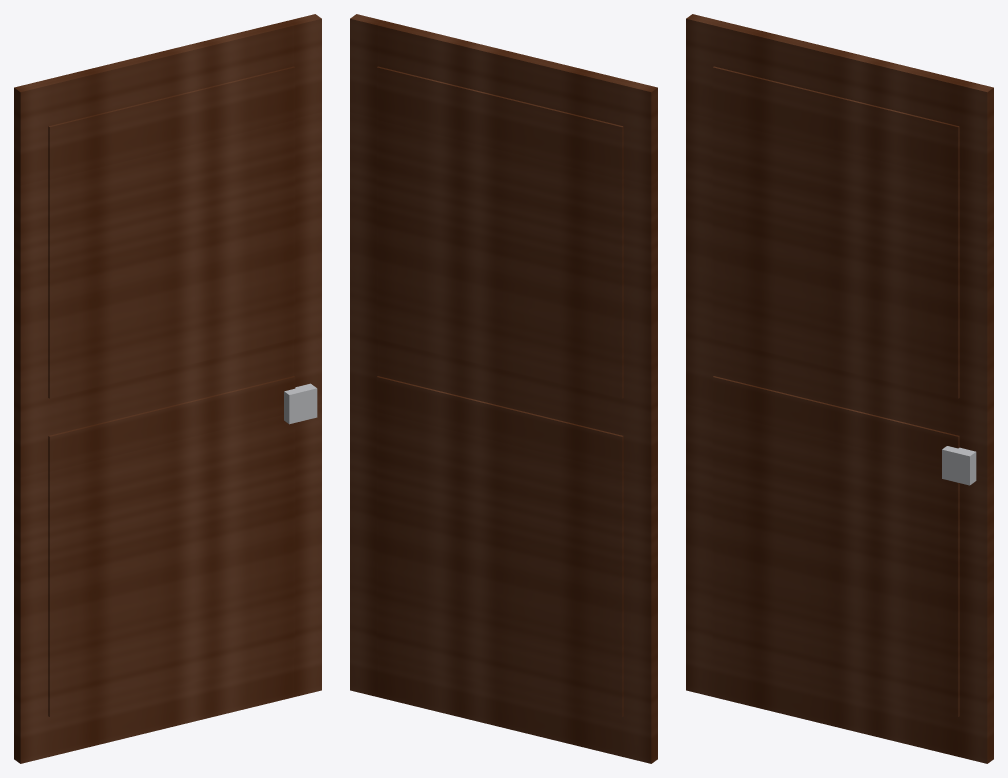
File: door_leaf.glb
The picture shows the model from 3 angles, left to right: view 1: azimuth 30°, elevation 25°; view 2: azimuth 150°, elevation 25°; view 3: azimuth 330°, elevation 25°; orthographic projection.
Parts seen in each view (by area): view 1: DoorLeaf; view 2: DoorLeaf; view 3: DoorLeaf.
Part boxes in pixels (<box>): DoorLeaf: <box>14,14,321,763</box>; DoorLeaf: <box>350,14,657,763</box>; DoorLeaf: <box>686,14,993,763</box>.
Size of the model in its own units: 1.08 by 2.3 by 0.088.
Materials: 2 (1 with a texture image).
